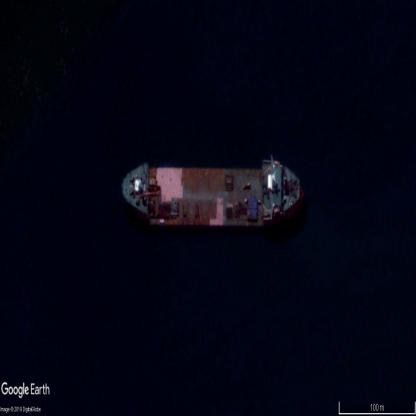ship: (120, 160, 304, 222)
